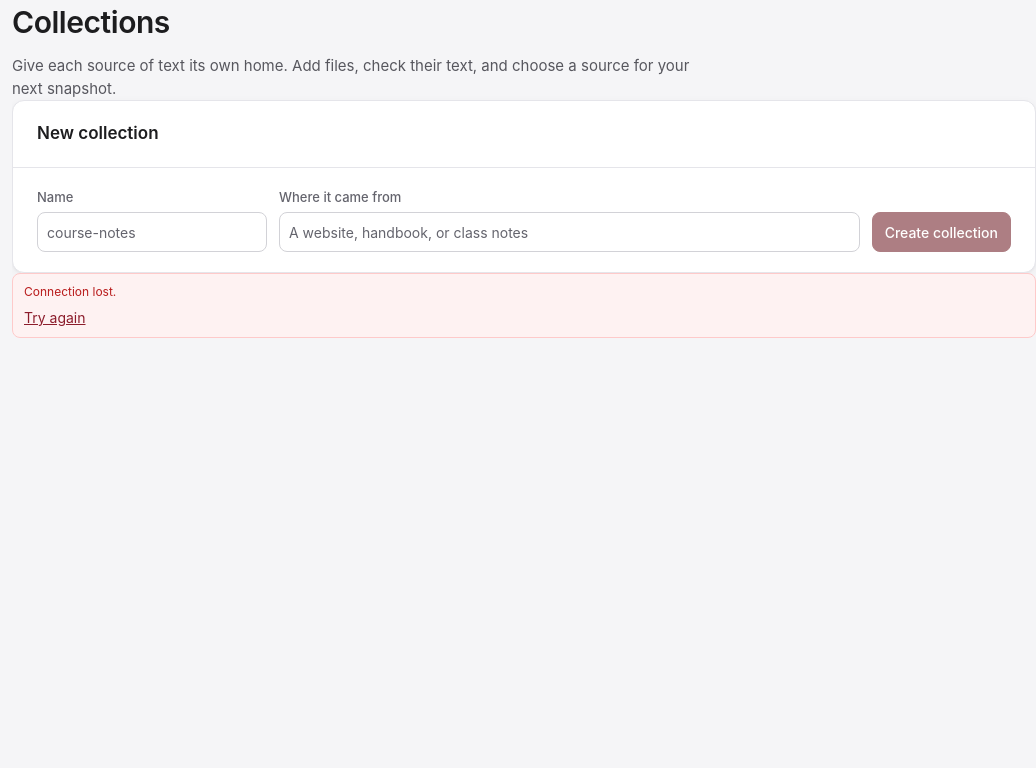
recovers a failed list without losing the create form
expect the text "Connection lost." is shown: met, box [24, 284, 116, 299]
expect the field labelled "Name" is shown: met, box [37, 212, 267, 252]
Click the button "Try again" at coordinates (55, 318), box [24, 307, 86, 328]
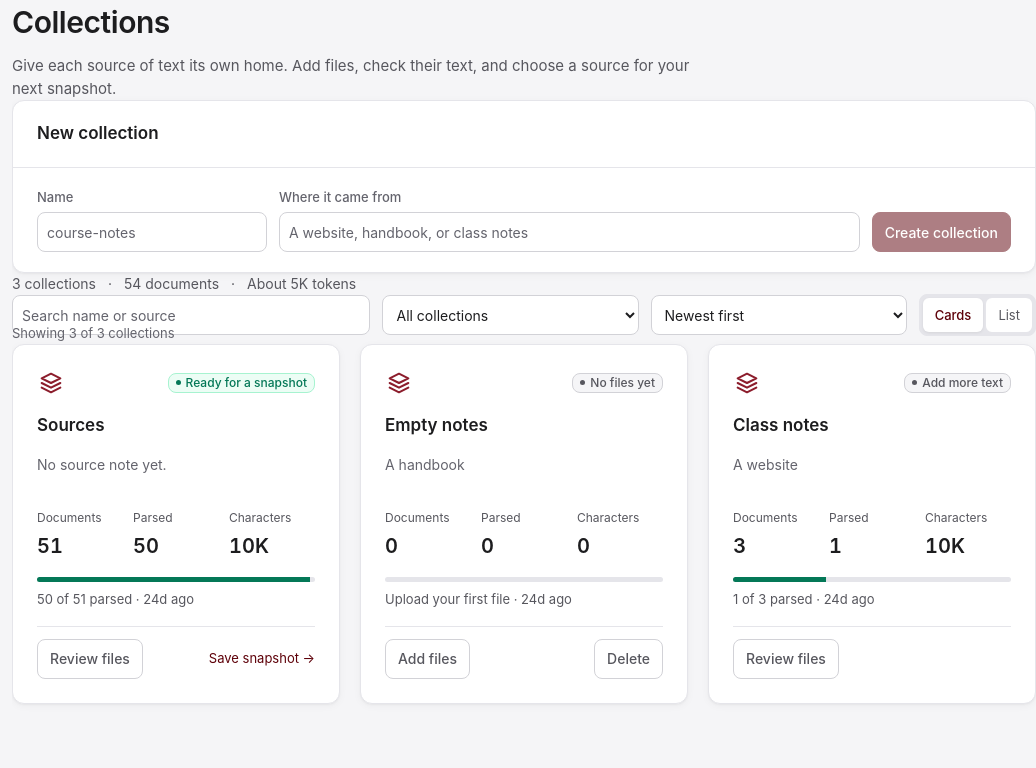
expect the element "Sources" is shown: met, box [12, 344, 340, 704]
